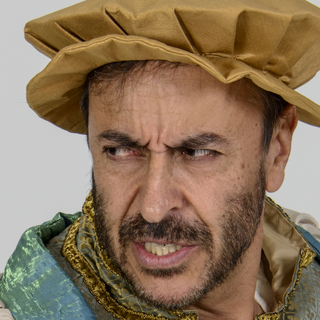eye: (173, 139, 225, 163), (101, 138, 143, 162)
